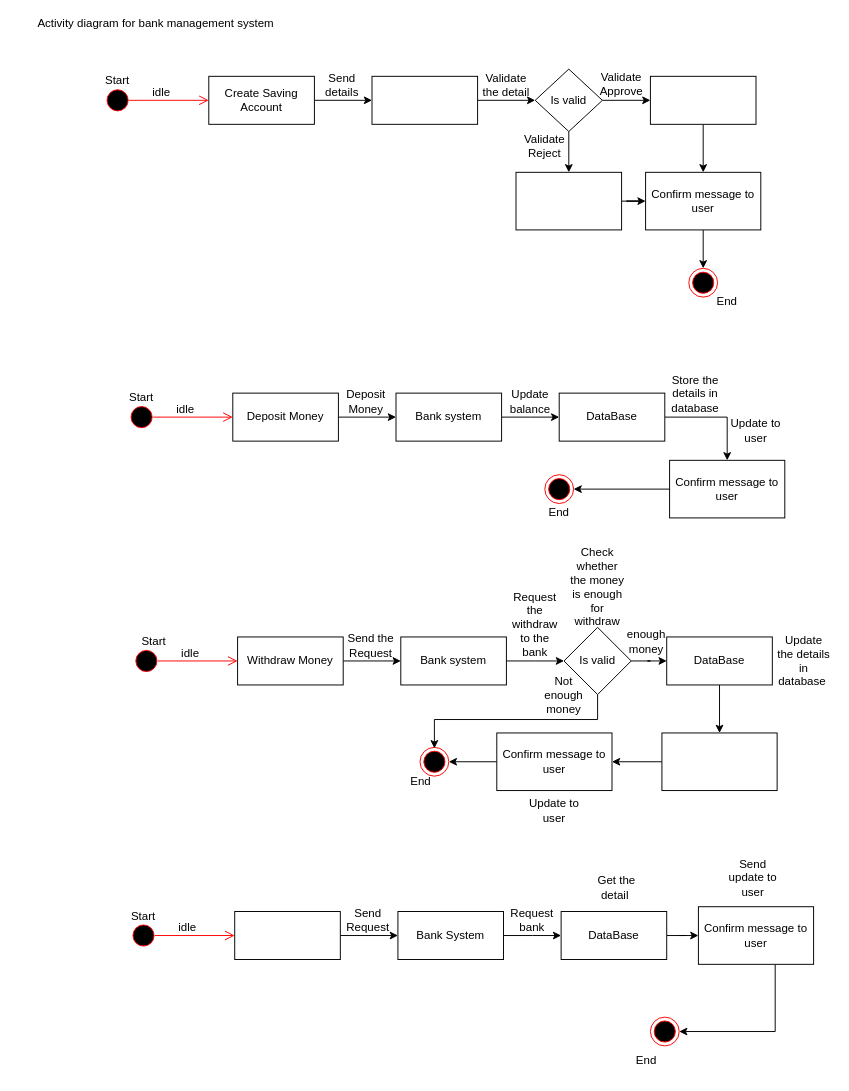
The diagram is 849 pixels wide and 1091 high, and some of its shapes have lost their labels. Here are the shapes that lost their labels. From the top down, the centre of each, then its label:
At pixel 424 99: "Validate".
At pixel 702 99: "Create account in database".
At pixel 568 200: "Reject the detail".
At pixel 719 761: "Money send to user".
At pixel 287 935: "Check balance".
